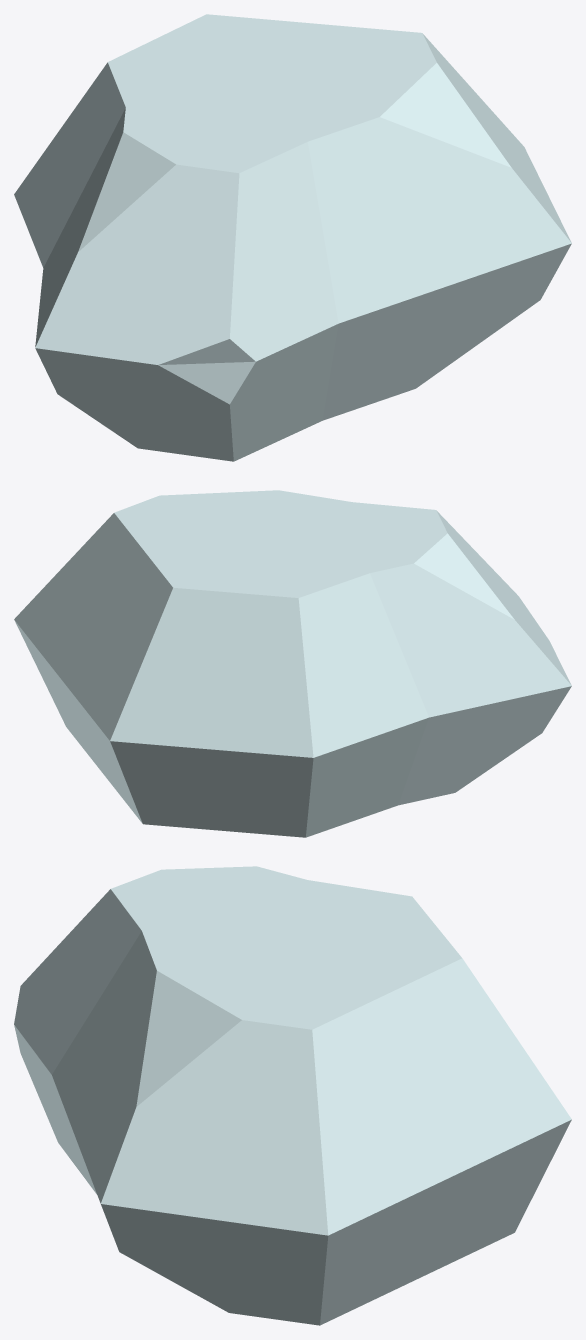
Rendered from stone_largeF.glb.
3 renders of one model, top to bottom at view 1: azimuth 30°, elevation 25°; view 2: azimuth 150°, elevation 25°; view 3: azimuth 270°, elevation 25°, orthographic. The views are drawn at different scales.
Parts seen in each view (by area): view 1: stone_largeF; view 2: stone_largeF; view 3: stone_largeF.
Boxes of the visible parts, <box> form: stone_largeF: <box>14,14,571,461</box>; stone_largeF: <box>14,490,571,837</box>; stone_largeF: <box>14,866,571,1325</box>.
Size of the model in its own units: 1.1 by 0.479 by 0.899.
1 material, 1 textured.
